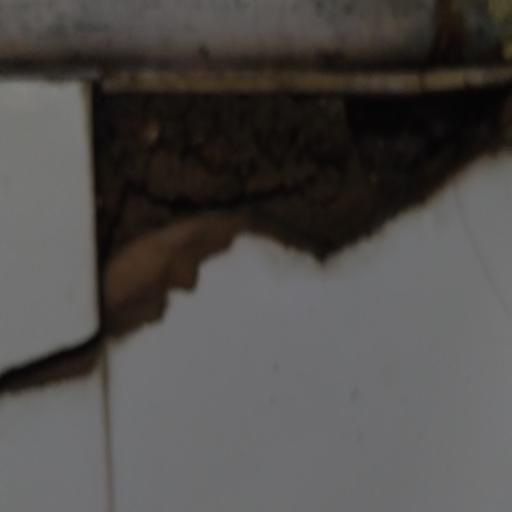spalling: (63, 31, 512, 367)
